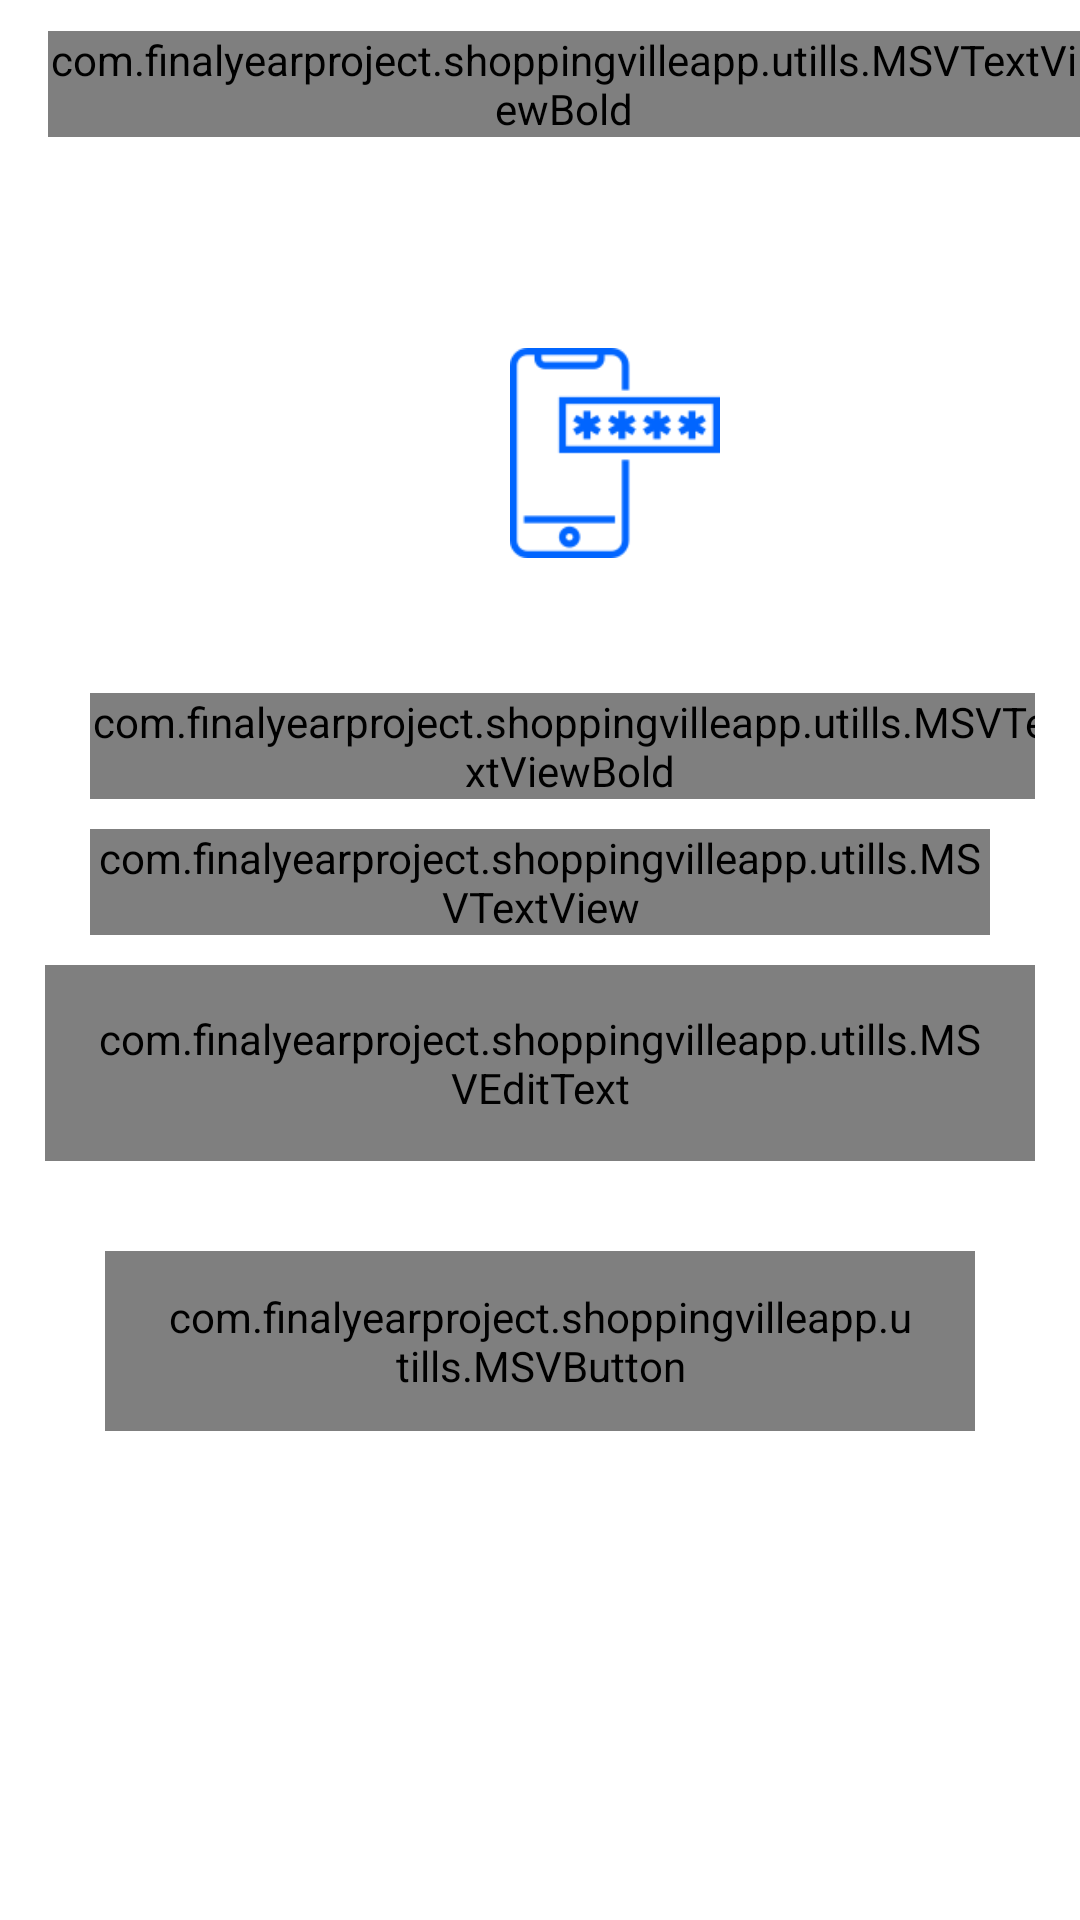

Where to tap for icons on this 1080w x 1920h app screen, as point (x, y):
otp: point (615, 453)
